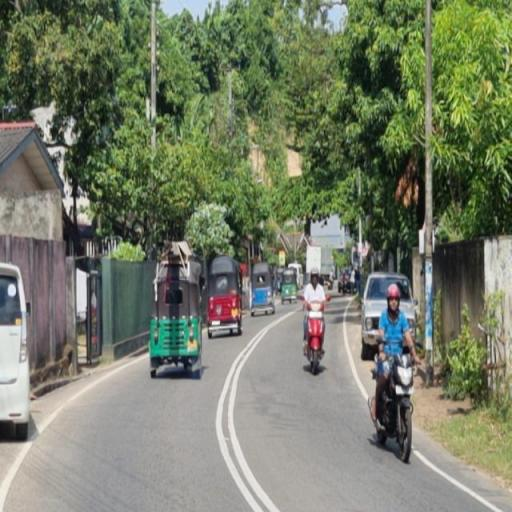double_white_line: (213, 309, 280, 511)
